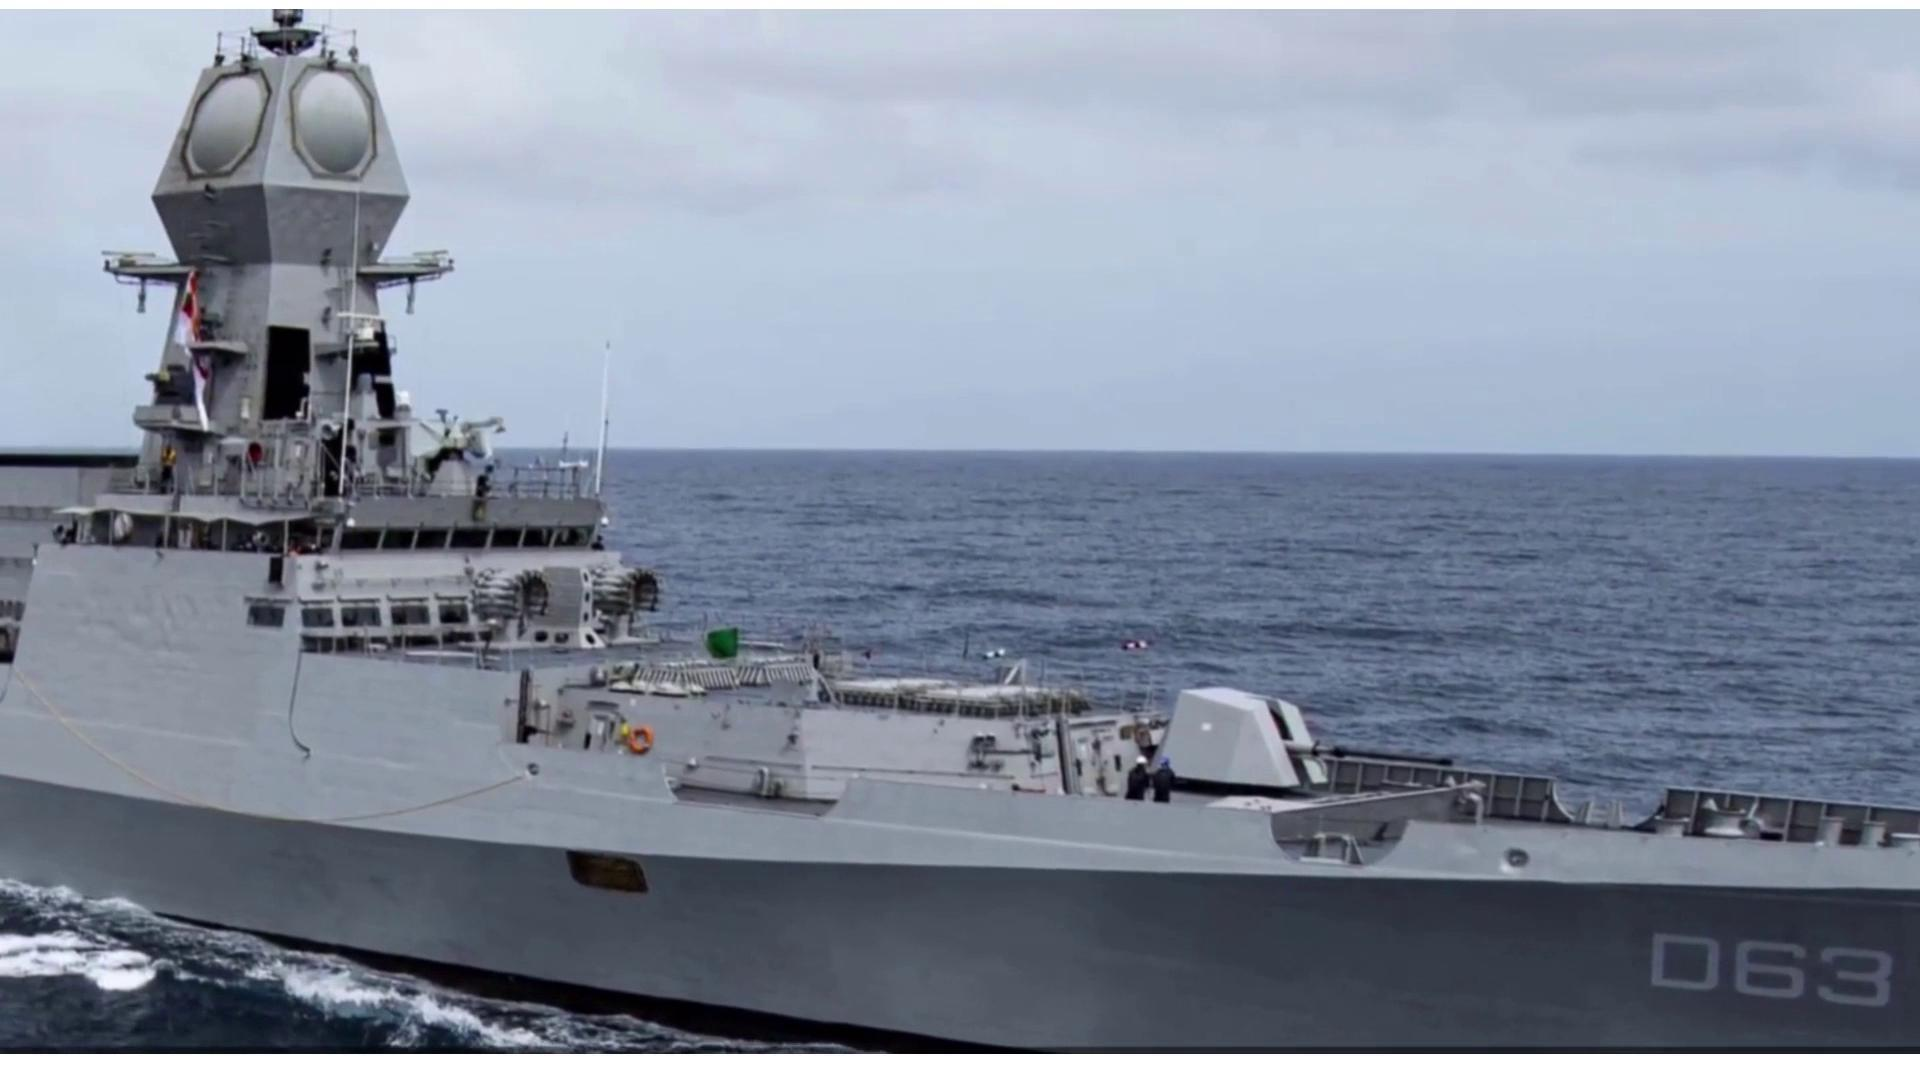OCR: (1636, 920, 1895, 1016)
